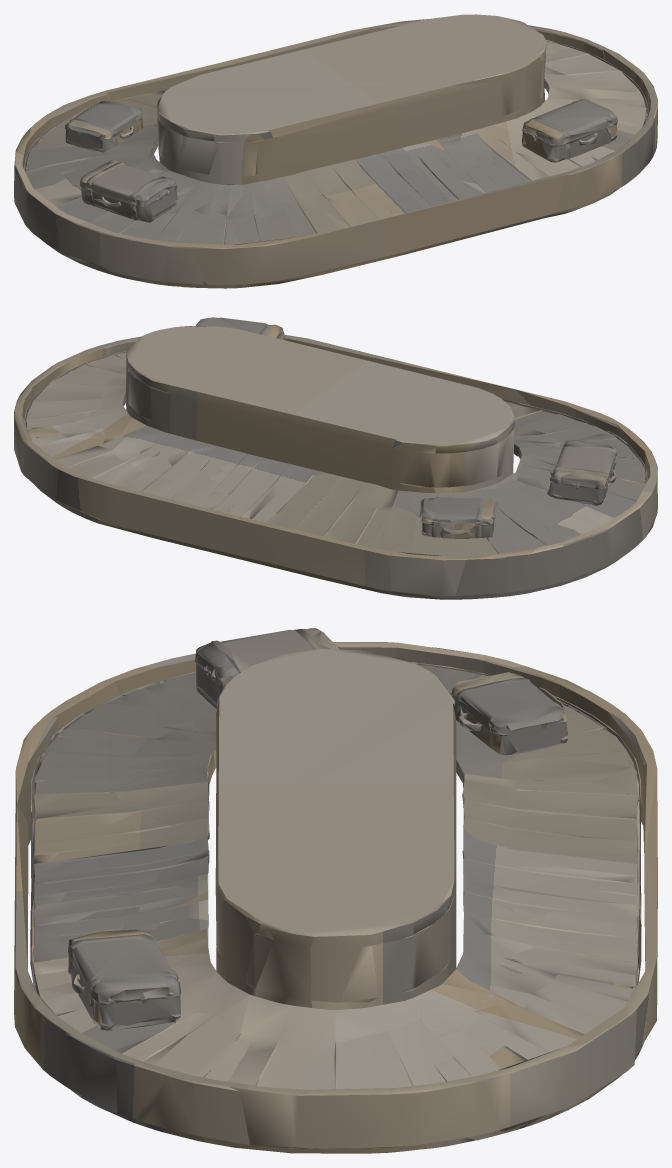
File: term_carousel.glb
The picture shows the model from 3 angles, top to bottom: view 1: azimuth 30°, elevation 25°; view 2: azimuth 150°, elevation 25°; view 3: azimuth 270°, elevation 25°; orthographic projection. The views are drawn at different scales.
Parts seen in each view (by area): view 1: LO; view 2: LO; view 3: LO.
Part boxes in pixels (x1=…): LO: x1=14, y1=14, x2=657, y2=288; LO: x1=14, y1=317, x2=657, y2=599; LO: x1=14, y1=628, x2=657, y2=1153.
Size of the model in its own units: 6.39 by 1.03 by 3.82.
Materials: 1 (1 with a texture image).
